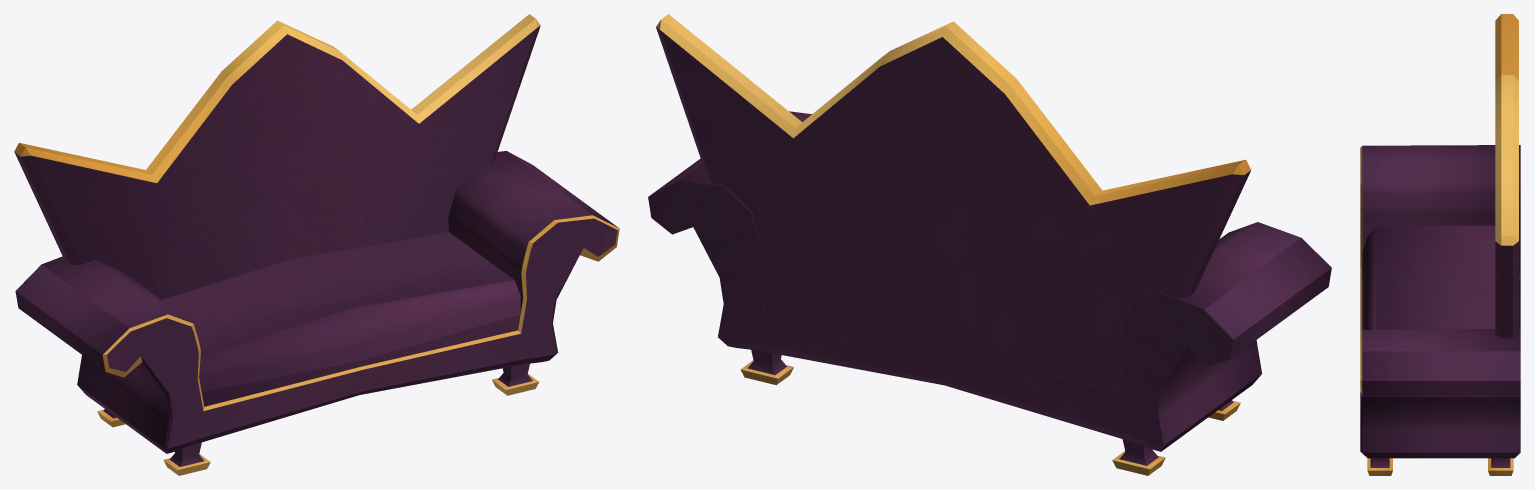
Rendered from SM_authority_couch.fbx.
The picture shows the model from 3 angles, left to right: view 1: azimuth 30°, elevation 25°; view 2: azimuth 150°, elevation 25°; view 3: azimuth 270°, elevation 25°; orthographic projection. The views are drawn at different scales.
Visible parts, largest first — view 1: SM_authority_couch; view 2: SM_authority_couch; view 3: SM_authority_couch.
Part boxes in pixels (left/top/right/bottom): SM_authority_couch: left=14, top=14, right=619, bottom=475; SM_authority_couch: left=648, top=14, right=1331, bottom=475; SM_authority_couch: left=1360, top=14, right=1520, bottom=475.
Bounding box in the file's own units: 3.33 × 2.16 × 0.9731.
